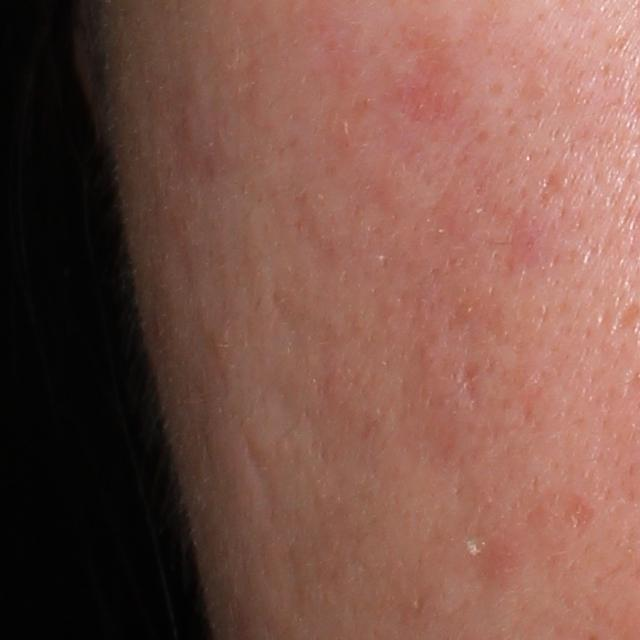atrophic_scar: (241, 429, 280, 511), (563, 494, 599, 541), (453, 357, 484, 411)
